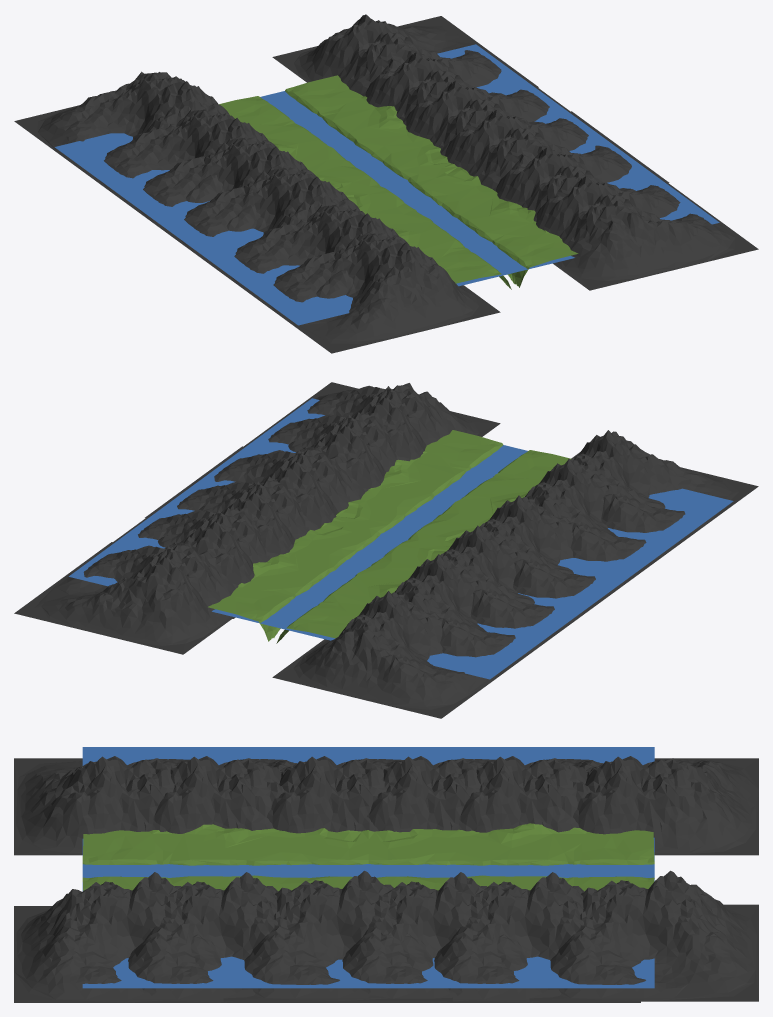
Rendered from river.fbx.
The picture shows the model from 3 angles, top to bottom: view 1: azimuth 30°, elevation 25°; view 2: azimuth 150°, elevation 25°; view 3: azimuth 270°, elevation 25°; orthographic projection. The views are drawn at different scales.
Parts seen in each view (by area): view 1: Plane, Landscape.002, Landscape.004, Landscape.008, Landscape.007, Landscape.014, Landscape.013, Landscape.006, Landscape.001, Landscape.010, Landscape.005, Landscape.009 (+3 smaller); view 2: Plane, Landscape.014, Landscape.013, Landscape.007, Landscape.008, Landscape.002, Landscape.004, Landscape.006, Landscape.010, Landscape.001, Landscape.005, Landscape.009 (+3 smaller); view 3: Plane, Landscape.014, Landscape.004, Landscape.013, Landscape.006, Landscape.002, Landscape.007, Landscape.008, Landscape.011, Landscape.003, Landscape.012, Landscape.001 (+3 smaller).
Boxes of the visible parts, x1,y1,x2,y2 form: Plane: (55,44,719,325); Landscape.002: (253,233,500,353); Landscape.004: (536,176,758,290); Landscape.008: (343,164,578,289); Landscape.007: (219,75,453,192); Landscape.014: (272,14,538,96); Landscape.013: (14,71,229,185); Landscape.006: (445,110,669,191); Landscape.001: (205,204,406,316); Landscape.010: (75,108,275,222); Landscape.005: (162,167,360,282); Landscape.009: (122,137,316,252); Plane: (69,398,733,679); Landscape.014: (14,542,238,654); Landscape.013: (272,591,527,718); Landscape.007: (208,518,450,643); Landscape.008: (334,430,571,546); Landscape.002: (571,430,758,544); Landscape.004: (245,382,500,459); Landscape.006: (145,446,367,526); Landscape.010: (394,554,582,675); Landscape.001: (525,458,709,579); Landscape.005: (480,495,656,611); Landscape.009: (440,525,619,640); Plane: (82,747,654,988); Landscape.014: (529,870,758,1001); Landscape.004: (14,872,221,1002); Landscape.013: (573,756,758,855); Landscape.006: (223,870,452,1001); Landscape.002: (14,756,189,855); Landscape.007: (368,823,654,891); Landscape.008: (82,824,368,891); Landscape.011: (434,872,640,1002); Landscape.003: (128,872,327,1002); Landscape.012: (324,872,527,1002); Landscape.001: (153,756,296,833).
Bounding box in the file's own units: 44916 × 6654 × 57264.
